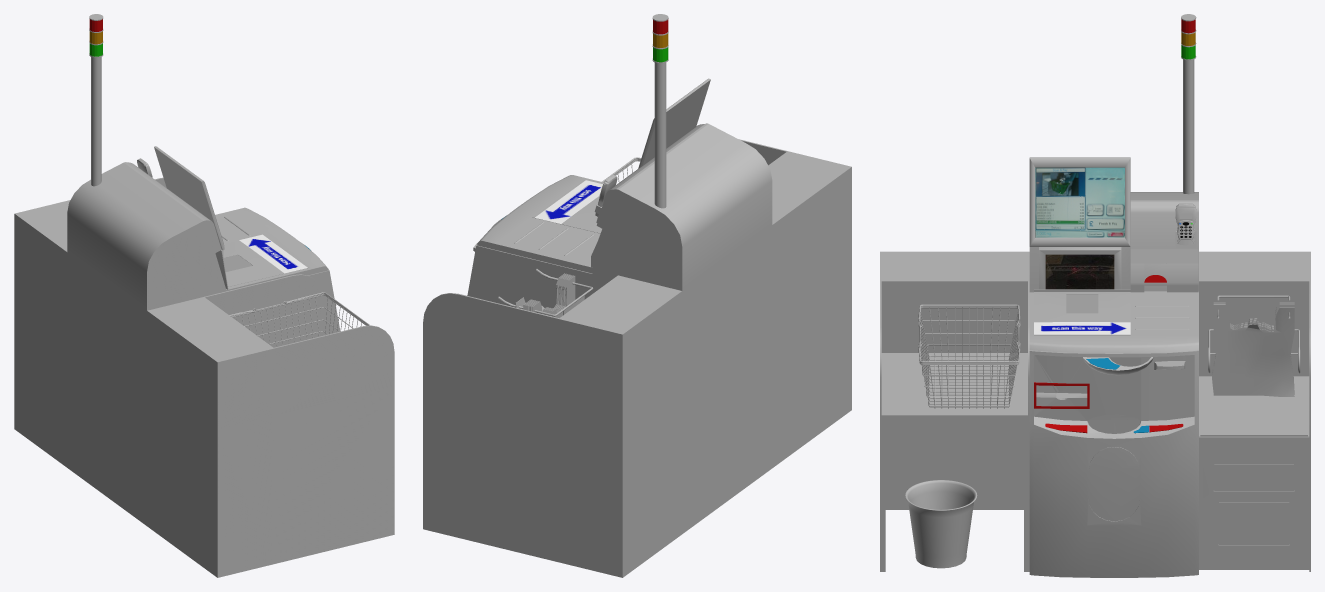
The model's file is Self-checkout_FBX.fbx.
The picture shows the model from 3 angles, left to right: view 1: azimuth 30°, elevation 25°; view 2: azimuth 150°, elevation 25°; view 3: azimuth 270°, elevation 25°; orthographic projection. The views are drawn at different scales.
Parts seen in each view (by area): view 1: pCube1, polySurface20, pCube10, pCube3, polySurface14, polySurface16, polySurface9, polySurface3, pCube11, polySurface8; view 2: pCube10, polySurface20, pCube1, pCube3, polySurface3, polySurface14, polySurface9, polySurface16, pCube11, polySurface8, polySurface21; view 3: polySurface3, pCube1, pPlane1, pTorus1, pCube10, polySurface17, pPlane13, pCube3, pCylinder9, pPlane4, polySurface14, polySurface16 (+13 smaller).
Part boxes in pixels (x1,y1,x2,y2): pCube1: (147,274,394,577); polySurface20: (67,162,224,525); pCube10: (14,177,166,467); pCube3: (215,207,328,291); polySurface14: (223,234,309,286); polySurface16: (154,146,224,250); polySurface9: (89,14,103,186); polySurface3: (308,268,339,334); pCube11: (126,162,221,252); polySurface8: (89,19,102,56); pCube10: (423,275,682,577); polySurface20: (595,124,772,533); pCube1: (739,139,851,467); pCube3: (477,175,603,273); polySurface3: (467,244,592,308); polySurface14: (532,180,602,233); polySurface9: (652,14,668,208); polySurface16: (638,78,710,168); pCube11: (596,124,704,229); polySurface8: (653,19,668,62); polySurface21: (592,123,708,293); polySurface3: (1029,350,1198,577); pCube1: (880,251,1029,571); pPlane1: (1203,454,1305,569); pTorus1: (881,353,1027,571); pCube10: (1199,251,1310,571); polySurface17: (1035,167,1124,237); pPlane13: (1212,304,1294,396); pCube3: (1029,291,1198,352); pCylinder9: (905,480,977,568); pPlane4: (1200,387,1307,436); polySurface14: (1034,292,1130,335); polySurface16: (1029,157,1130,246).
Size of the model in its own units: 0.7398 by 1.58 by 1.3.
